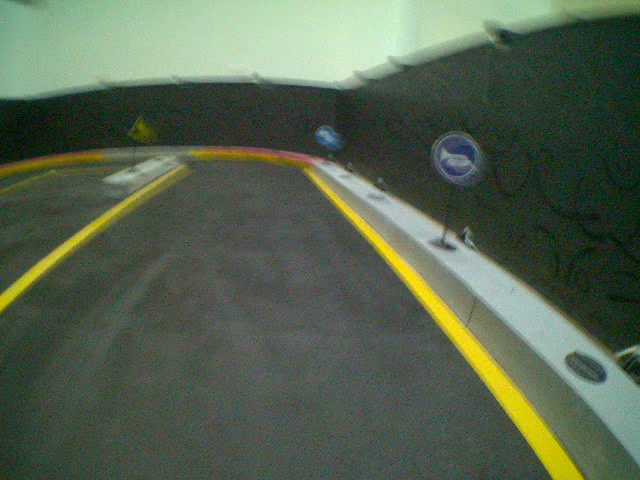fast: (120, 113, 154, 141)
horn: (430, 129, 483, 181)
turn: (314, 123, 339, 147)
